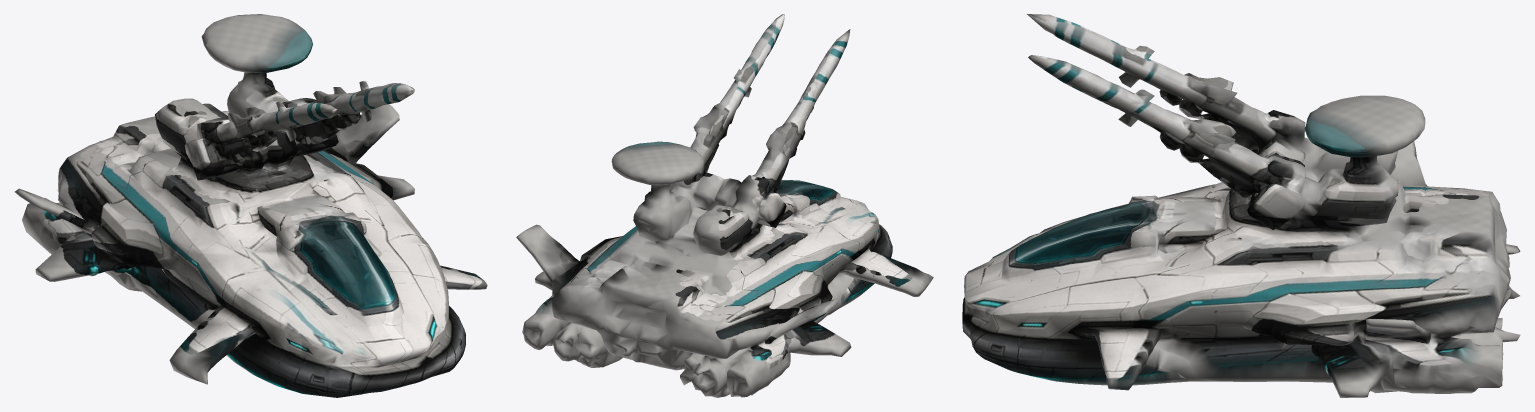
File: levante_lod1.glb
3 views of the same model, side by side, from view 1: azimuth 30°, elevation 25°; view 2: azimuth 150°, elevation 25°; view 3: azimuth 270°, elevation 25° (orthographic). The views are drawn at different scales.
Parts seen in each view (by area): view 1: geometry_0; view 2: geometry_0; view 3: geometry_0.
Part boxes in pixels (x1,y1,x2,y2): geometry_0: [14, 14, 487, 397]; geometry_0: [516, 14, 933, 397]; geometry_0: [962, 14, 1520, 397].
Bounding box in the file's own units: 1.67 × 1.25 × 2.
Materials: 1 (1 with a texture image).
